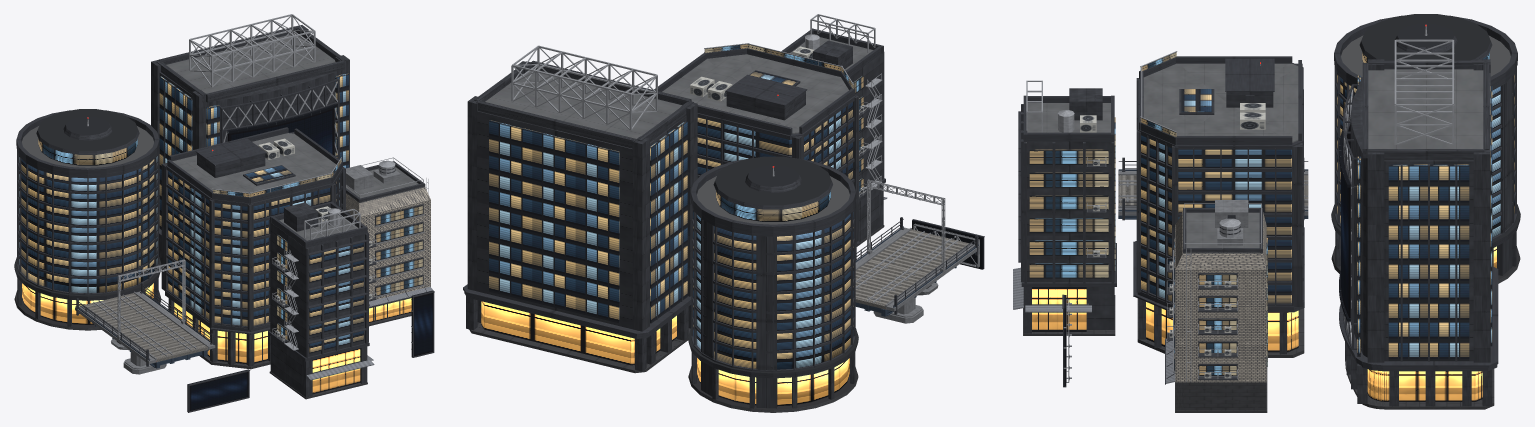
File: shibuya_arch.glb
3 renders of one model, left to right at view 1: azimuth 30°, elevation 25°; view 2: azimuth 150°, elevation 25°; view 3: azimuth 270°, elevation 25°, orthographic. The views are drawn at different scales.
Visible parts, largest first — view 1: ScrambleCorner_Structure, MediaFacade_Structure, Shibuya109_CurtainGlass, Shibuya109_Structure, ShopfrontB_Structure, ScrambleCorner_Glass, ShopfrontA_Structure, YamanoteViaduct_Main, ShopfrontB_Glass, MediaFacade_Glass, ShopfrontA_Glass, MediaScreenSurface (+4 smaller); view 2: MediaFacade_Glass, MediaFacade_Structure, Shibuya109_Structure, Shibuya109_CurtainGlass, ScrambleCorner_Structure, YamanoteViaduct_Main, ShopfrontB_Structure, ScrambleCorner_Glass, NeonBillboardWide_Frame; view 3: MediaFacade_Structure, ScrambleCorner_Structure, MediaFacade_Glass, ShopfrontA_Structure, ShopfrontB_Structure, ScrambleCorner_Glass, Shibuya109_Structure, ShopfrontB_Glass, ShopfrontA_Glass, Shibuya109_CurtainGlass, MediaScreenSurface, YamanoteViaduct_Main (+1 smaller).
Boxes of the visible parts, x1,y1,x2,y2 form: ScrambleCorner_Structure: (161, 127, 345, 369); MediaFacade_Structure: (151, 14, 349, 263); Shibuya109_CurtainGlass: (19, 117, 157, 324); Shibuya109_Structure: (14, 109, 161, 330); ShopfrontB_Structure: (268, 201, 374, 399); ScrambleCorner_Glass: (168, 149, 341, 364); ShopfrontA_Structure: (346, 157, 434, 326); YamanoteViaduct_Main: (75, 259, 215, 374); ShopfrontB_Glass: (277, 234, 363, 394); MediaFacade_Glass: (159, 73, 348, 229); ShopfrontA_Glass: (346, 205, 422, 322); MediaScreenSurface: (228, 108, 334, 155); MediaFacade_Glass: (481, 120, 687, 365); MediaFacade_Structure: (463, 45, 697, 373); Shibuya109_Structure: (688, 156, 858, 412); Shibuya109_CurtainGlass: (693, 166, 853, 406); ScrambleCorner_Structure: (654, 43, 859, 260); YamanoteViaduct_Main: (855, 179, 979, 323); ShopfrontB_Structure: (781, 14, 887, 246); ScrambleCorner_Glass: (697, 44, 853, 179); NeonBillboardWide_Frame: (912, 219, 984, 269); MediaFacade_Structure: (1339, 39, 1498, 409); ScrambleCorner_Structure: (1133, 51, 1304, 357); MediaFacade_Glass: (1357, 75, 1492, 401); ShopfrontA_Structure: (1165, 200, 1267, 412); ShopfrontB_Structure: (1013, 80, 1116, 335); ScrambleCorner_Glass: (1140, 52, 1298, 352); Shibuya109_Structure: (1331, 14, 1520, 283); ShopfrontB_Glass: (1029, 117, 1115, 331); ShopfrontA_Glass: (1174, 237, 1267, 375); Shibuya109_CurtainGlass: (1337, 24, 1514, 267); MediaScreenSurface: (1341, 124, 1350, 317); YamanoteViaduct_Main: (1118, 157, 1308, 220).
Size of the model in its own units: 61.6 by 42.06 by 66.89.
3 materials, 3 textured.
